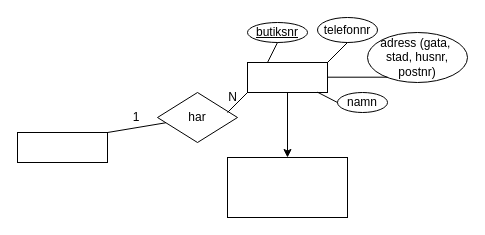
Some shapes in this 485 by 235 pixel diagram are drawn without their labels. The centre of each missing label's shape, as x and y in pixels:
butik: (287,77)
företaget: (62,147)
